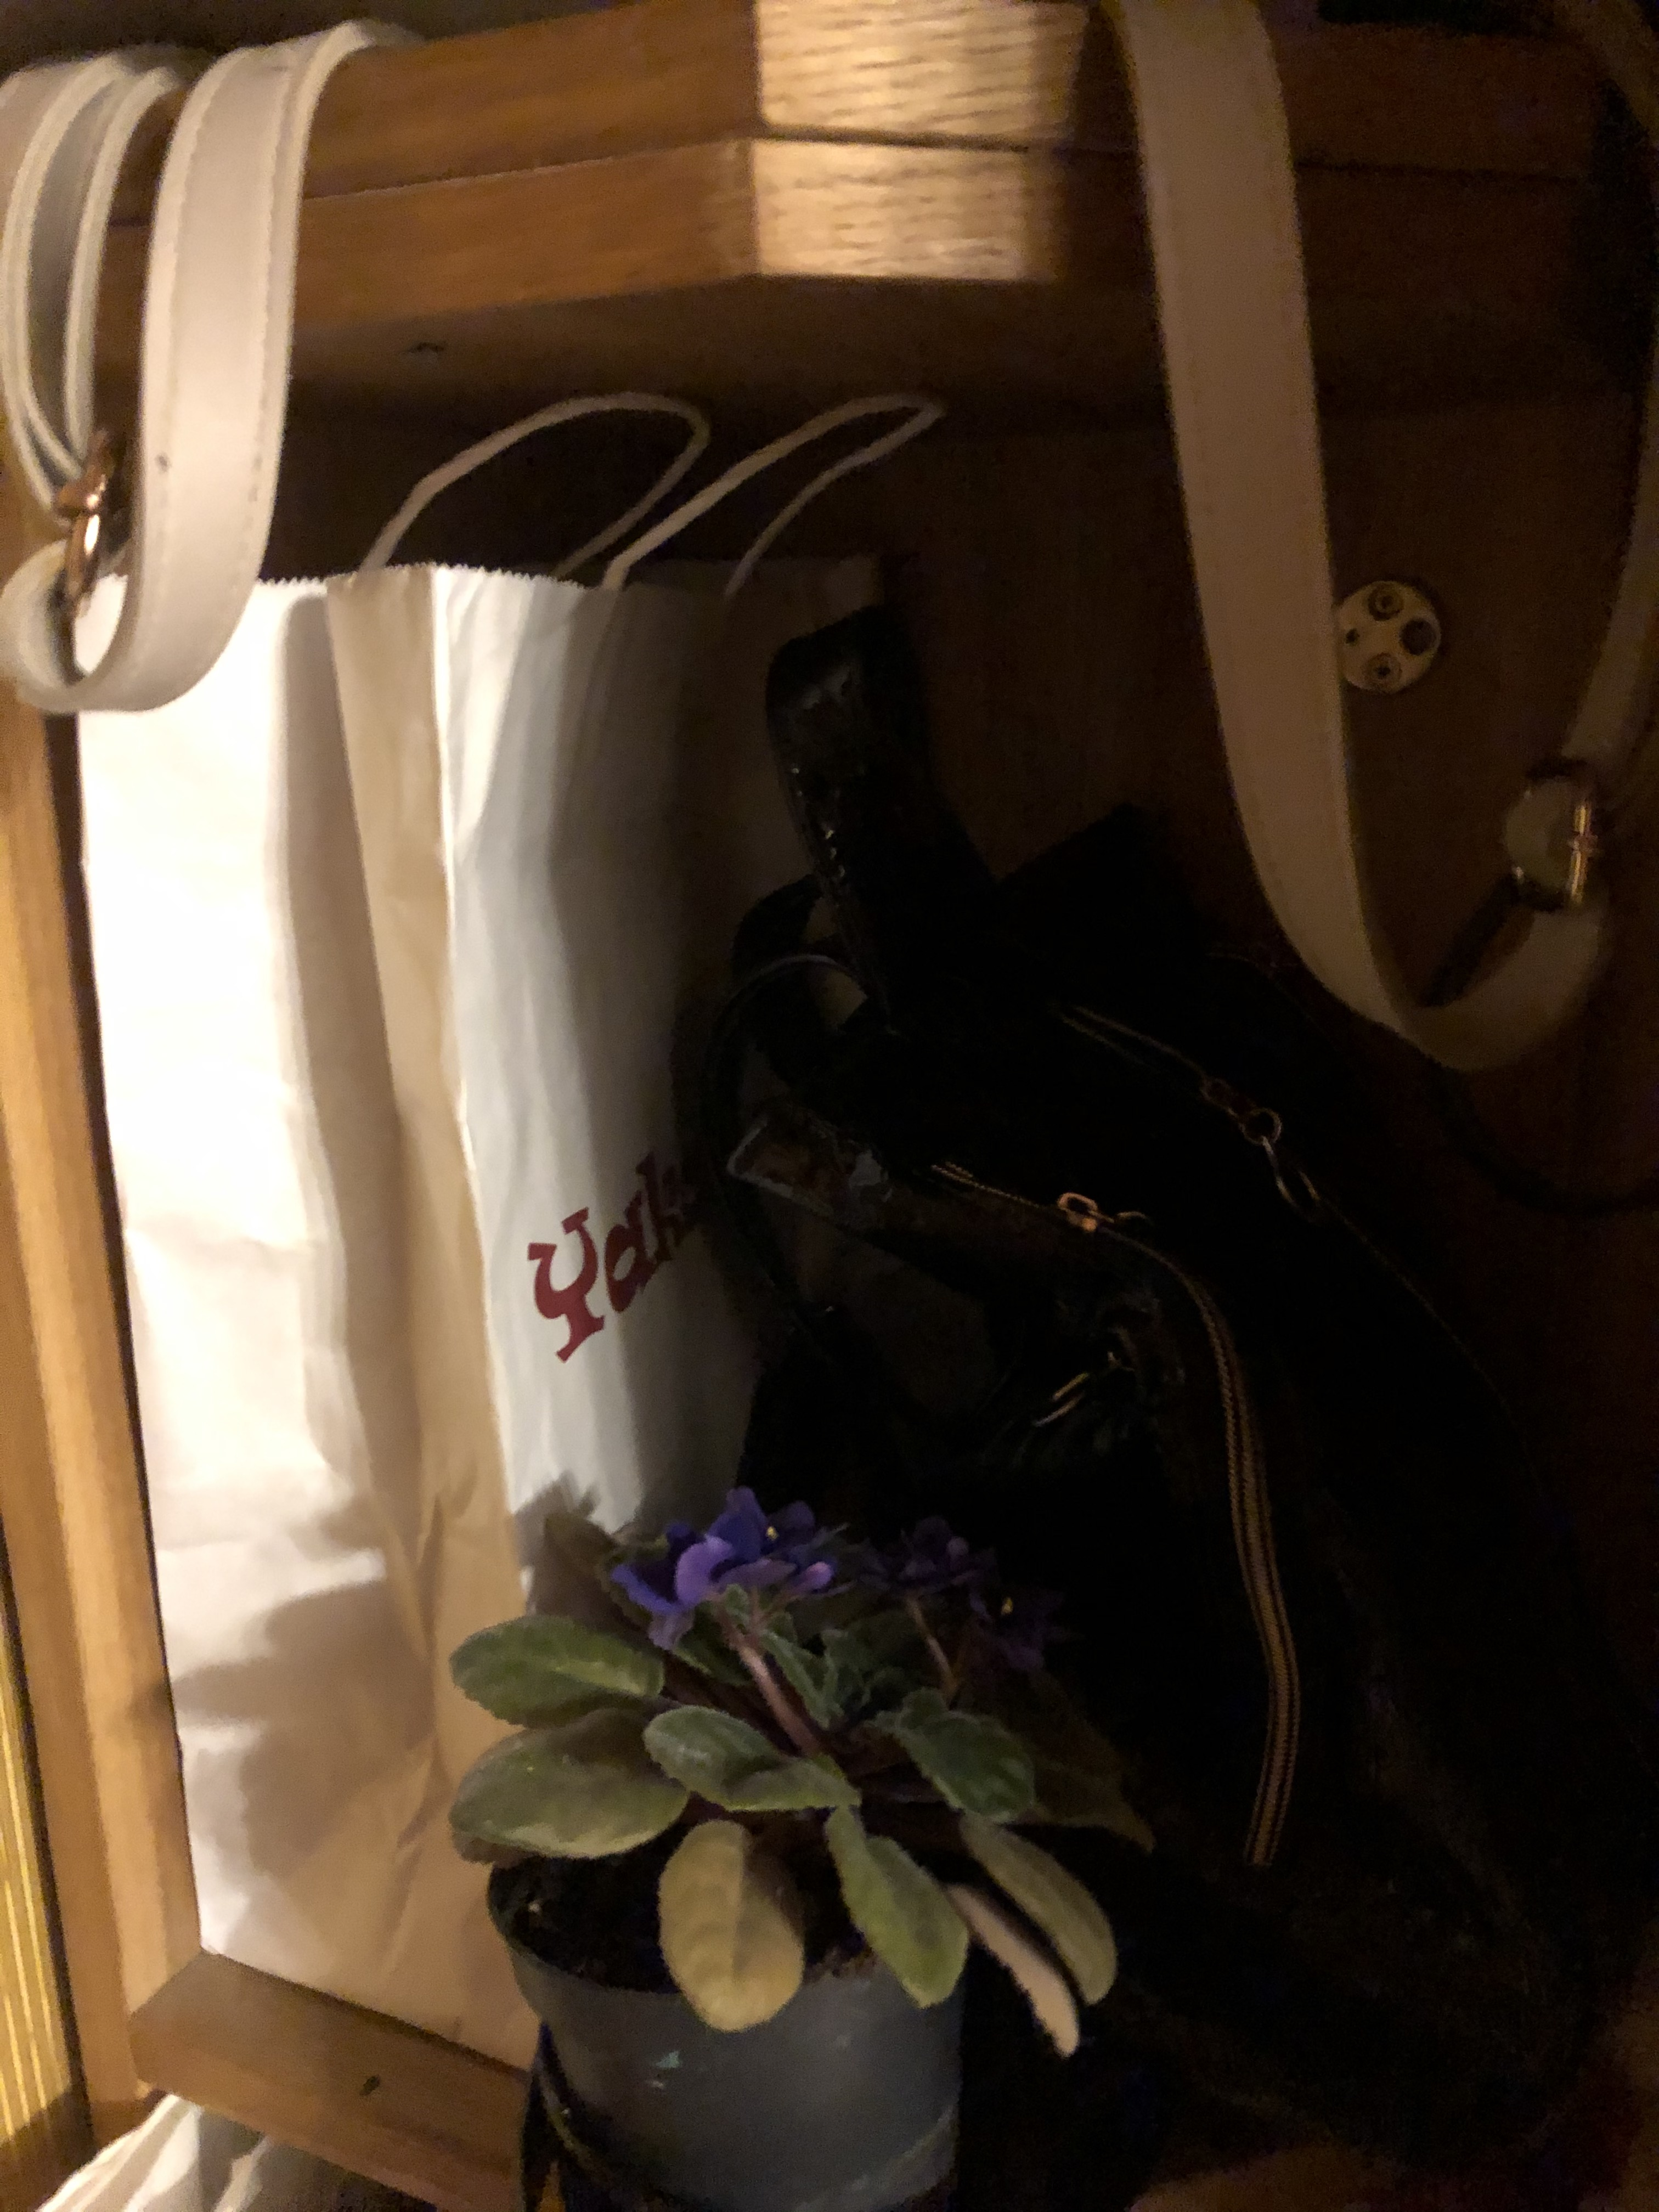ignore: (416, 1458, 1169, 2052)
